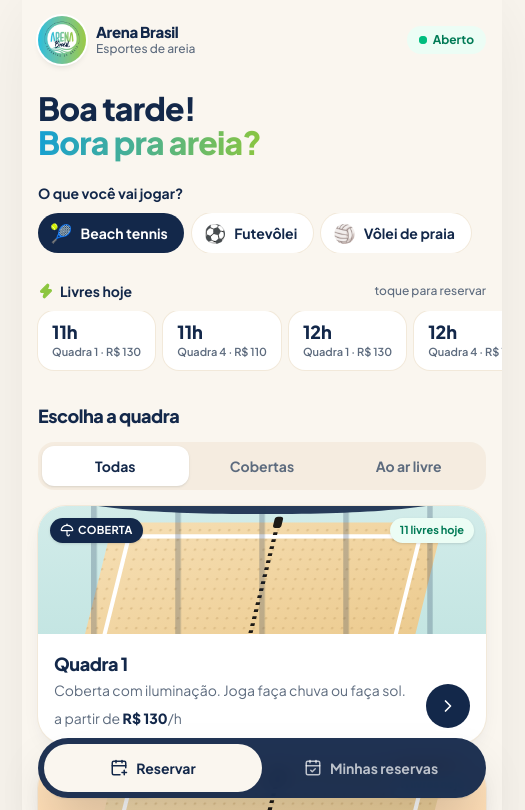
reserva › não envia com dados inválidos
This screenshot has width=525, height=810.
Click the heading "Quadra 1": click(91, 664) [54,652,128,675]
(page scrolled)
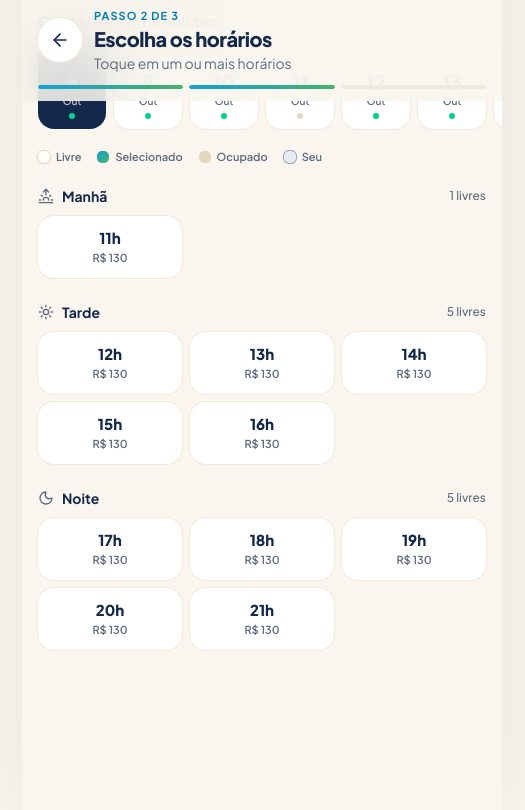
Now the heading "Escolha os horários" is shown, box [94,26,272,50]
Click the button "20h R$ 130": click(110, 618) [38,588,182,650]
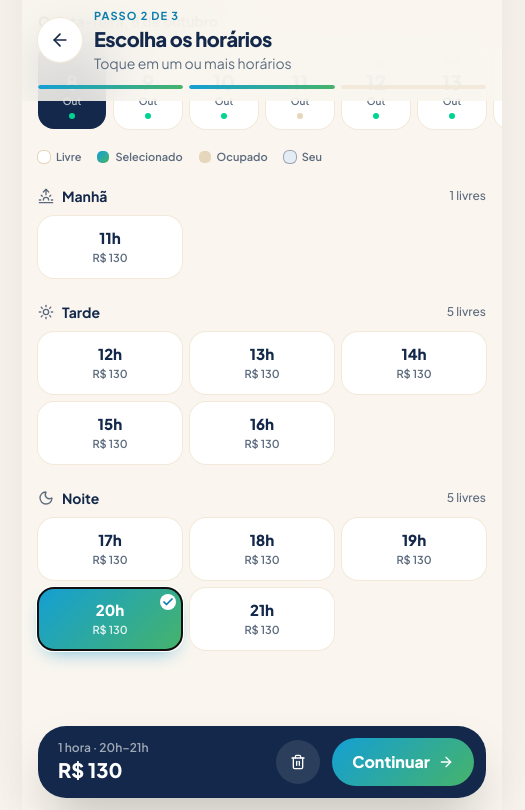
Click the button "Continuar": click(403, 762) [332,738,474,786]
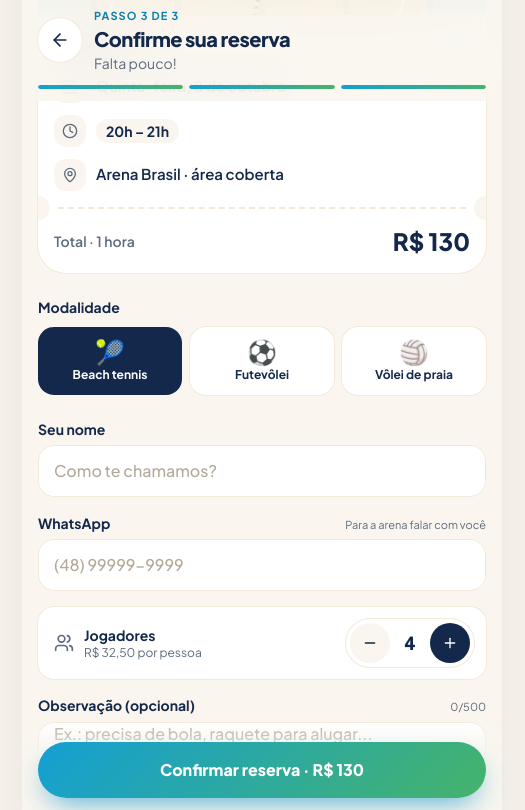
Click the button "Confirmar reserva · R$ 130": click(262, 770) [38,742,486,798]
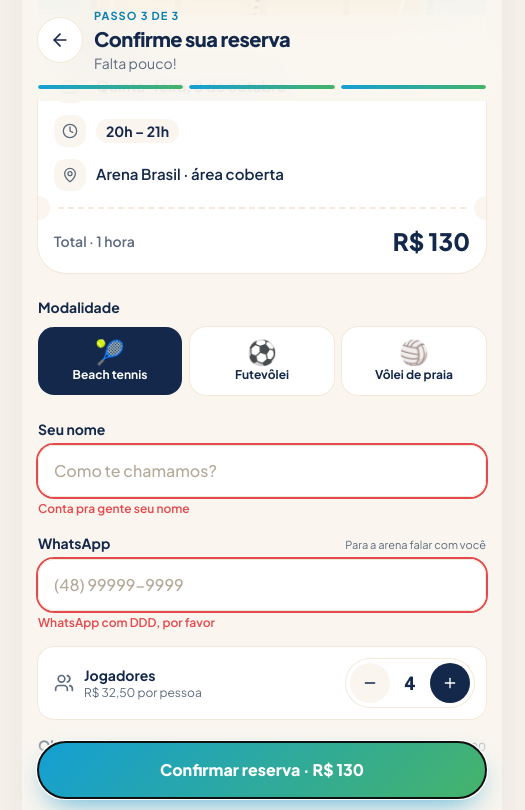
Now the text "Conta pra gente seu nome" is shown, box [38,500,190,516]
